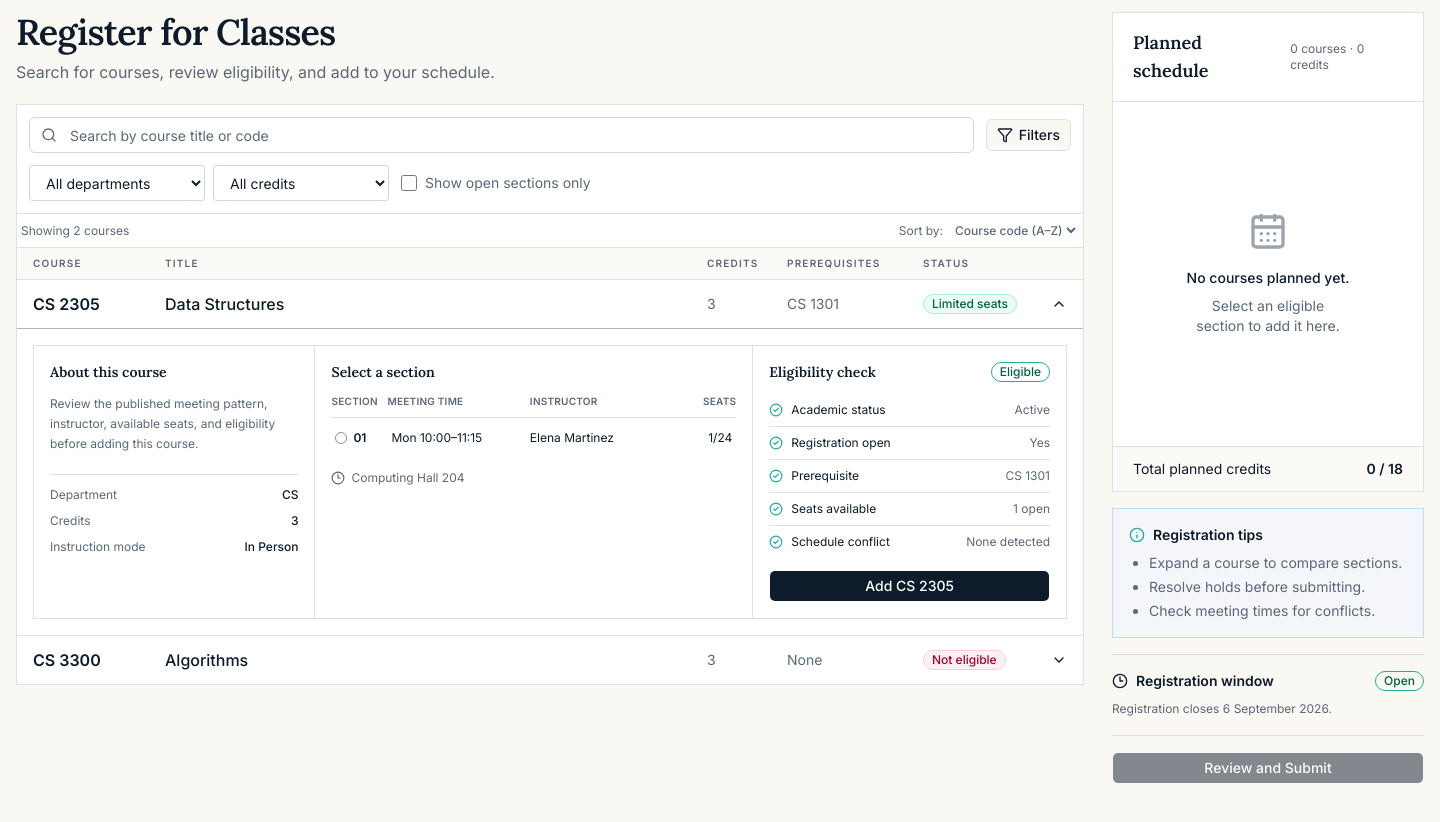
RegistrationExperience › submits an eligible planned section and reports success
Step 1. Click the button "Add CS 2305" → (910, 586), box [769, 570, 1050, 602]
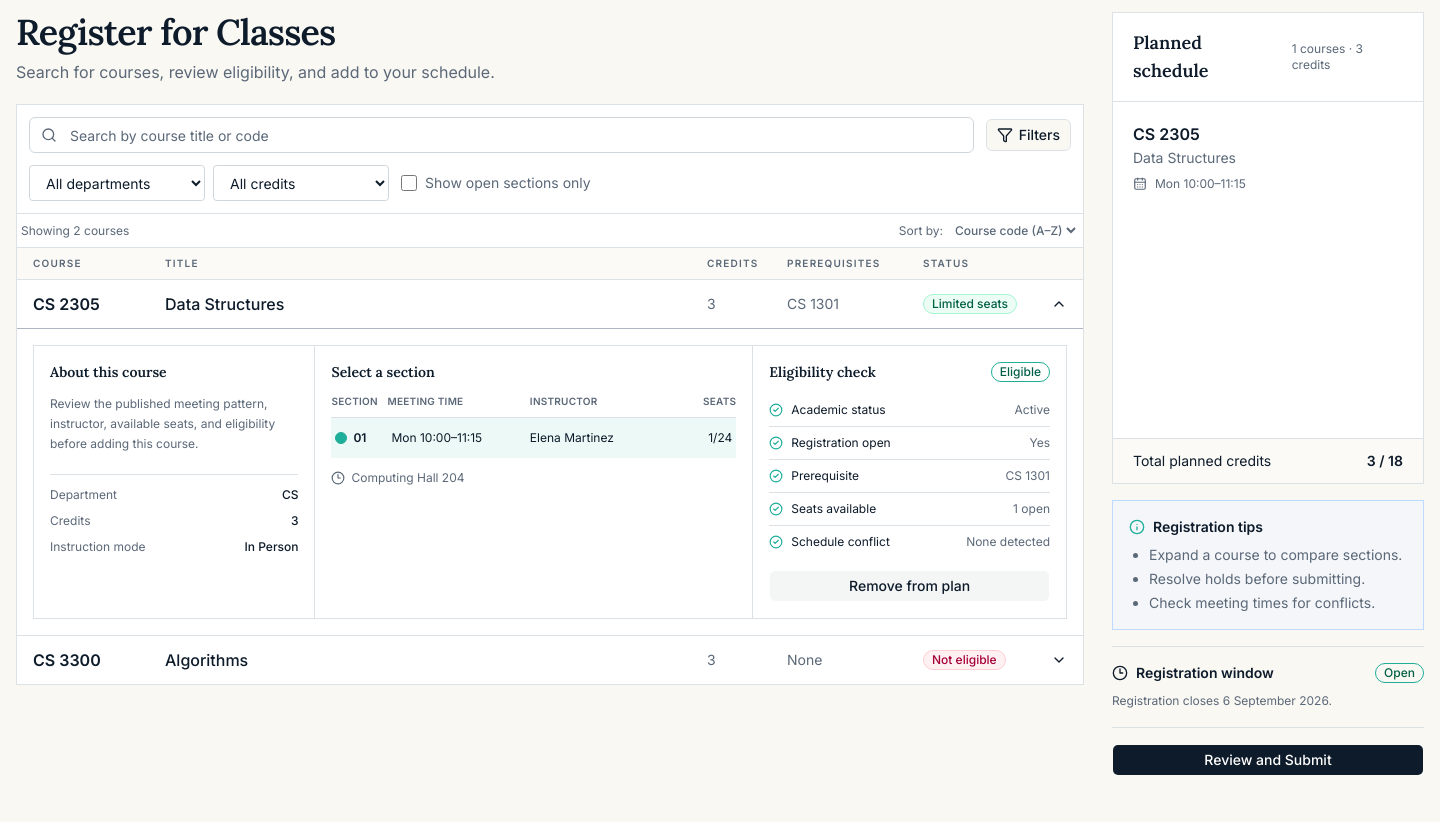
Expected: the text "3 / 18" is shown, [1367, 451, 1403, 471]
Step 2. Click the button "Review and Submit" → (1268, 760), box [1112, 744, 1424, 776]
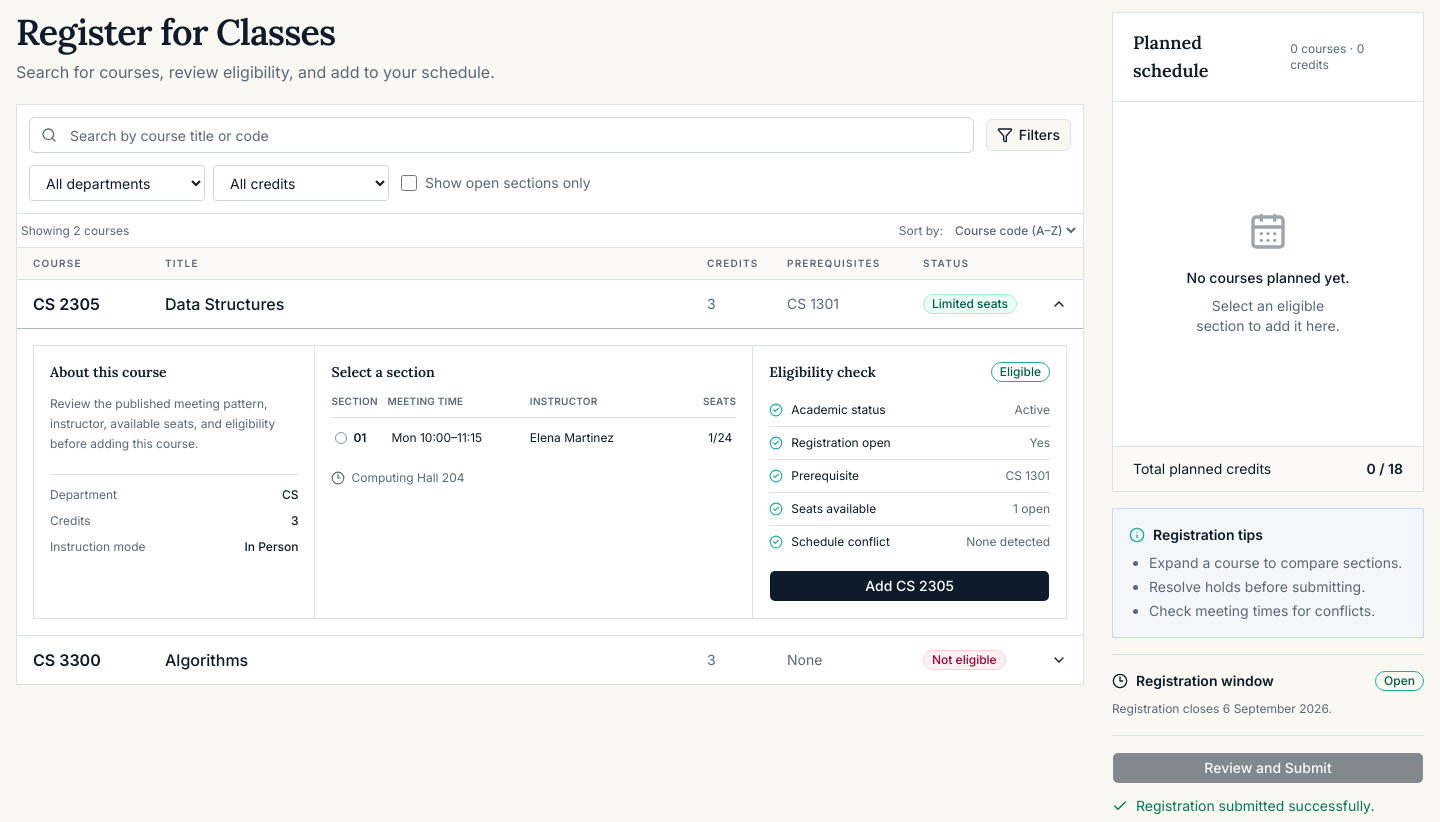
Expected: the text "Registration submitted successfully." is shown, [1112, 797, 1374, 814]
